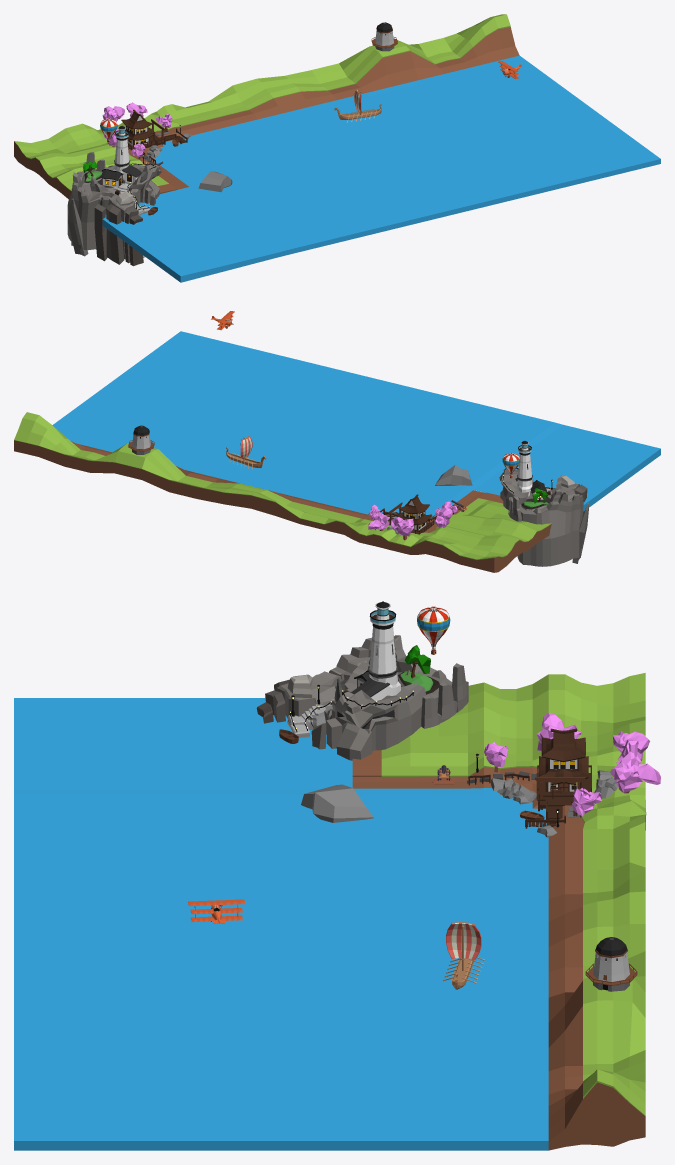
The model's file is JapaneseHouseModel.glb.
The picture shows the model from 3 angles, top to bottom: view 1: azimuth 30°, elevation 25°; view 2: azimuth 150°, elevation 25°; view 3: azimuth 270°, elevation 25°; orthographic projection. The views are drawn at different scales.
Visible parts, largest first — view 1: Japanesehouse, Cube, Windmill; view 2: Japanesehouse, Cube, Windmill; view 3: Japanesehouse, Cube, Windmill, Sail, HotAirBaloon, plane.
Boxes of the visible parts, bbox=[...] form: Japanesehouse: bbox=[14, 14, 660, 282]; Cube: bbox=[67, 126, 161, 266]; Windmill: bbox=[371, 22, 397, 51]; Japanesehouse: bbox=[14, 331, 660, 572]; Cube: bbox=[499, 441, 588, 566]; Windmill: bbox=[128, 425, 154, 454]; Japanesehouse: bbox=[14, 673, 660, 1150]; Cube: bbox=[256, 601, 468, 760]; Windmill: bbox=[585, 937, 637, 991]; Sail: bbox=[446, 922, 481, 960]; HotAirBaloon: bbox=[417, 606, 450, 654]; plane: bbox=[188, 899, 244, 923].
Size of the model in its own units: 932 by 217 by 552.
14 materials, 5 textured.
